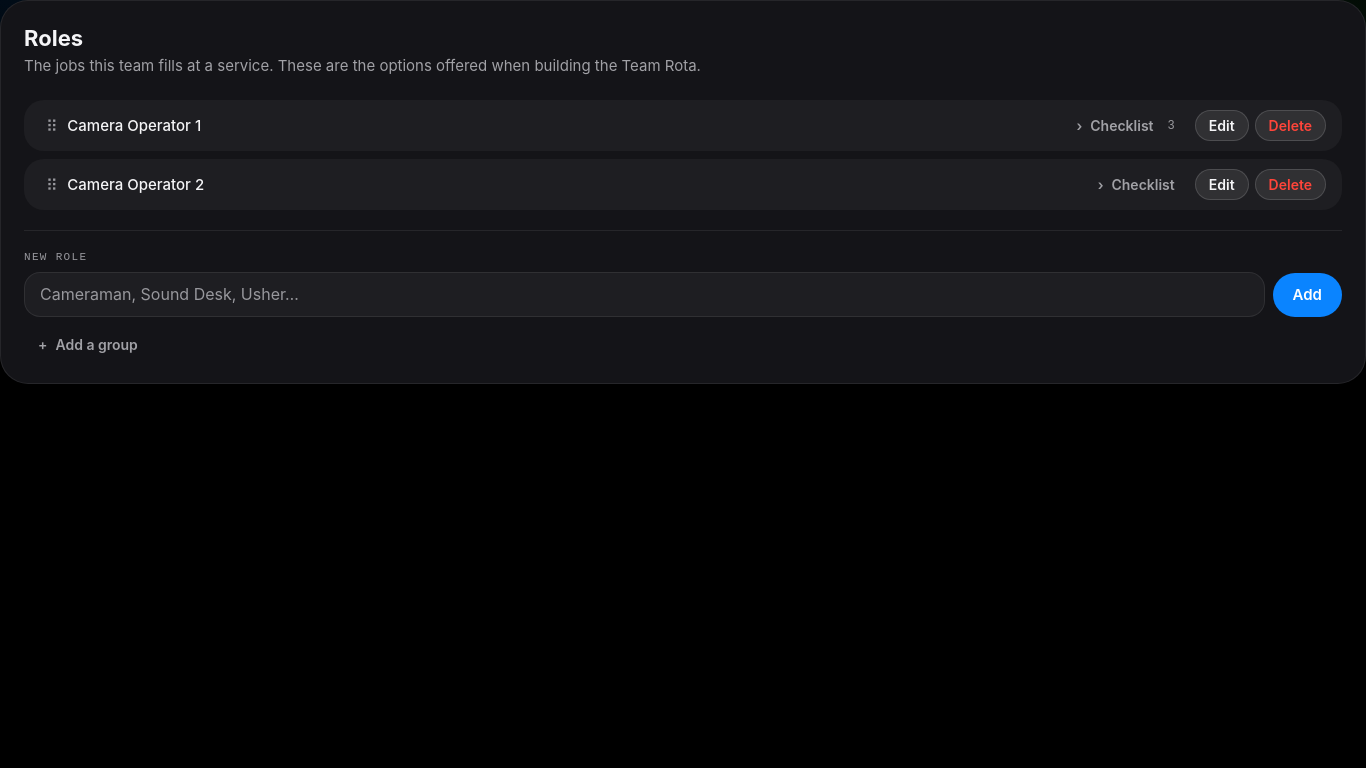
it: copying a checklist from another role › offers the role that has a checklist, with how much it carries
The width and height of the screenshot is (1366, 768).
What coordinates should you click on to do the following:
click the button "› Checklist"
I would click on:
 (1136, 184)
Its box is [1084, 169, 1189, 200].
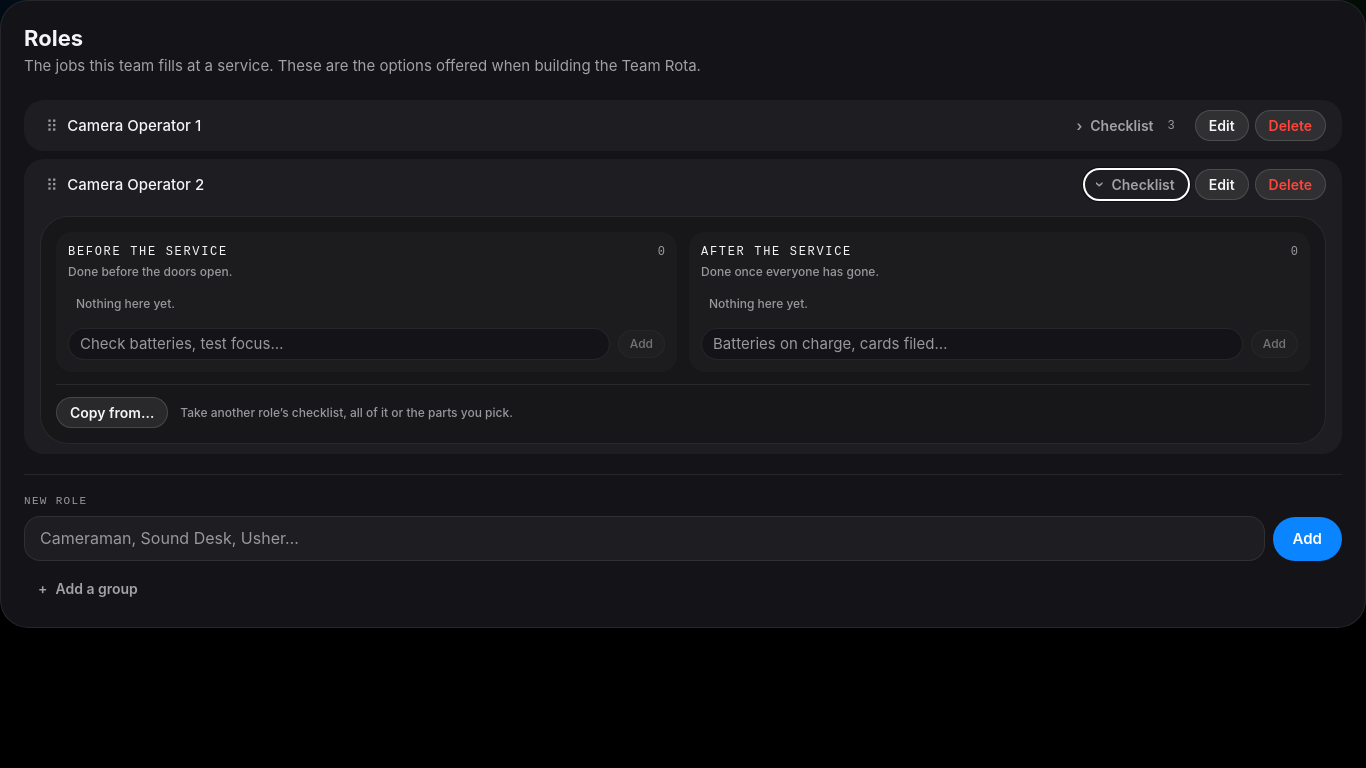
What coordinates should you click on to do the following:
click the button "Copy from…"
I would click on:
 (112, 412)
Its box is [56, 397, 168, 428].
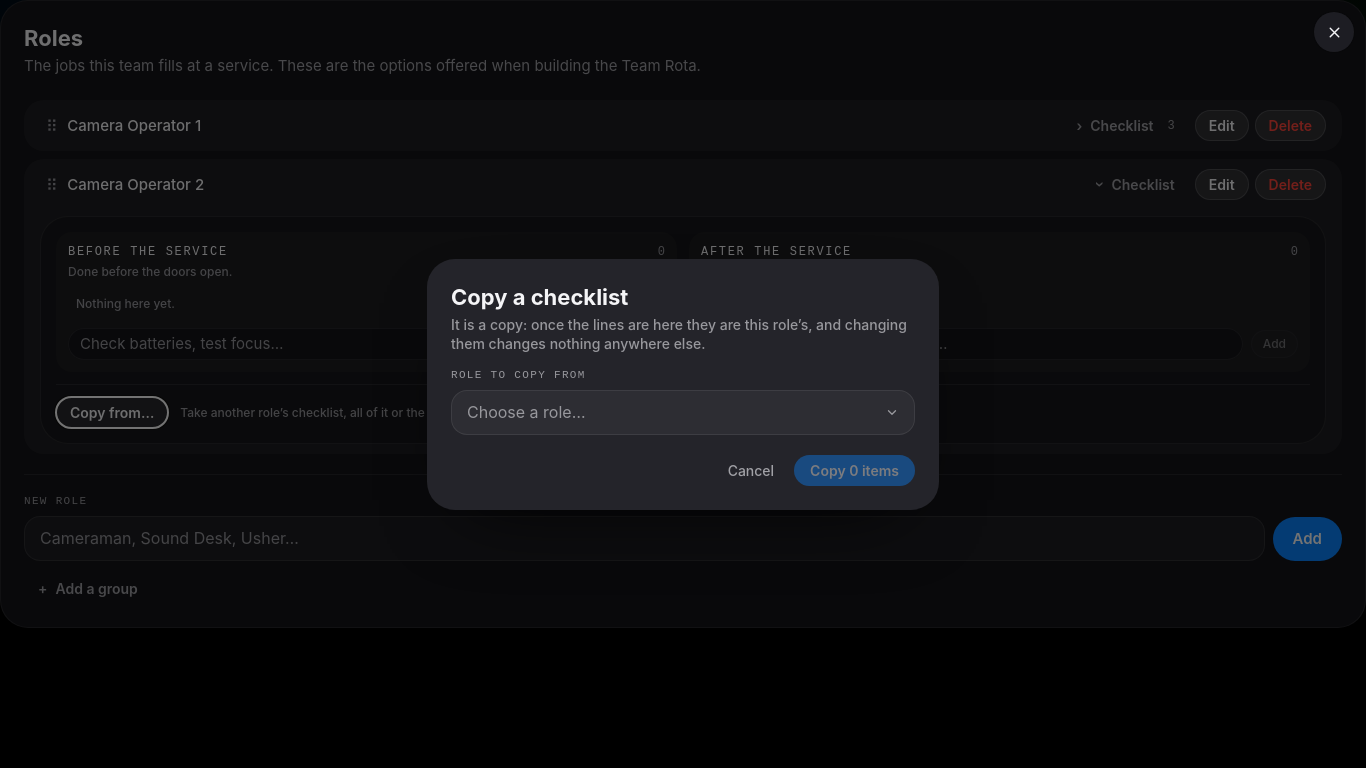
What coordinates should you click on to do the following:
click the dropdown
I would click on:
 (526, 412)
Its box is [451, 390, 915, 434].
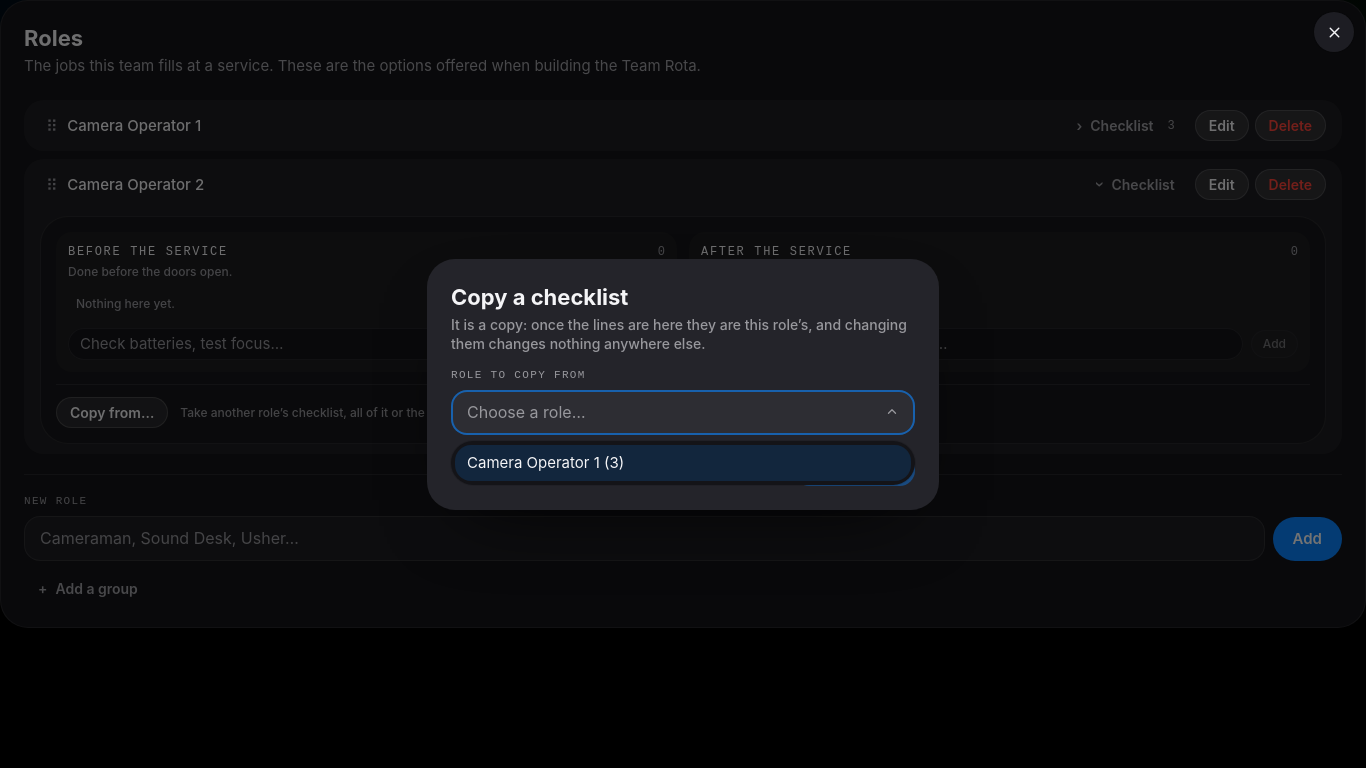
Expected: the option "Camera Operator 1 (3)" is shown, [455, 444, 911, 480]
